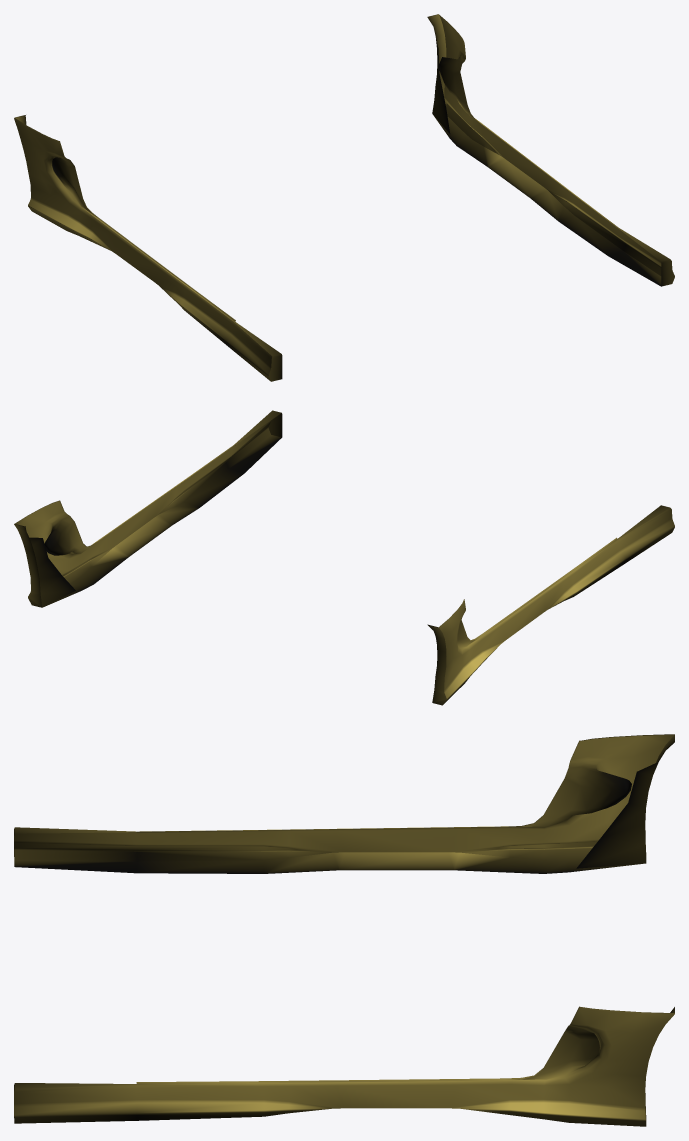
File: Supra_SideSkirt_05_Duco.fbx
3 views of the same model, one above another, from view 1: azimuth 30°, elevation 25°; view 2: azimuth 150°, elevation 25°; view 3: azimuth 270°, elevation 25° (orthographic). The views are drawn at different scales.
Parts seen in each view (by area): view 1: Supra_SideSkirt_05_Duco; view 2: Supra_SideSkirt_05_Duco; view 3: Supra_SideSkirt_05_Duco.
Part boxes in pixels (bbox=[...]): Supra_SideSkirt_05_Duco: bbox=[14, 14, 674, 381]; Supra_SideSkirt_05_Duco: bbox=[14, 410, 674, 705]; Supra_SideSkirt_05_Duco: bbox=[14, 734, 674, 1126].
Size of the model in its own units: 187 by 37.28 by 187.
